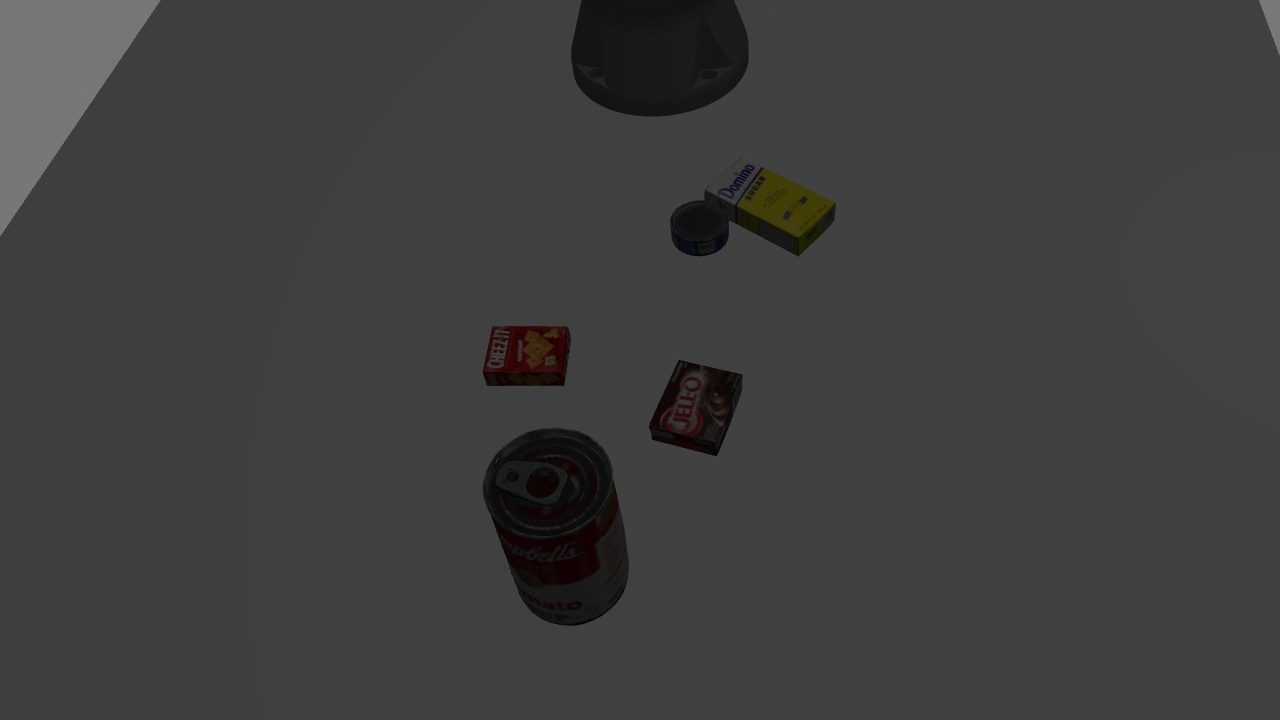cracker_box: (475, 317, 578, 389)
pudding_box: (644, 359, 746, 458)
sugar_box: (699, 151, 845, 256)
tomato_soup_can: (475, 424, 645, 625)
tuna_fish_can: (668, 200, 731, 265)
